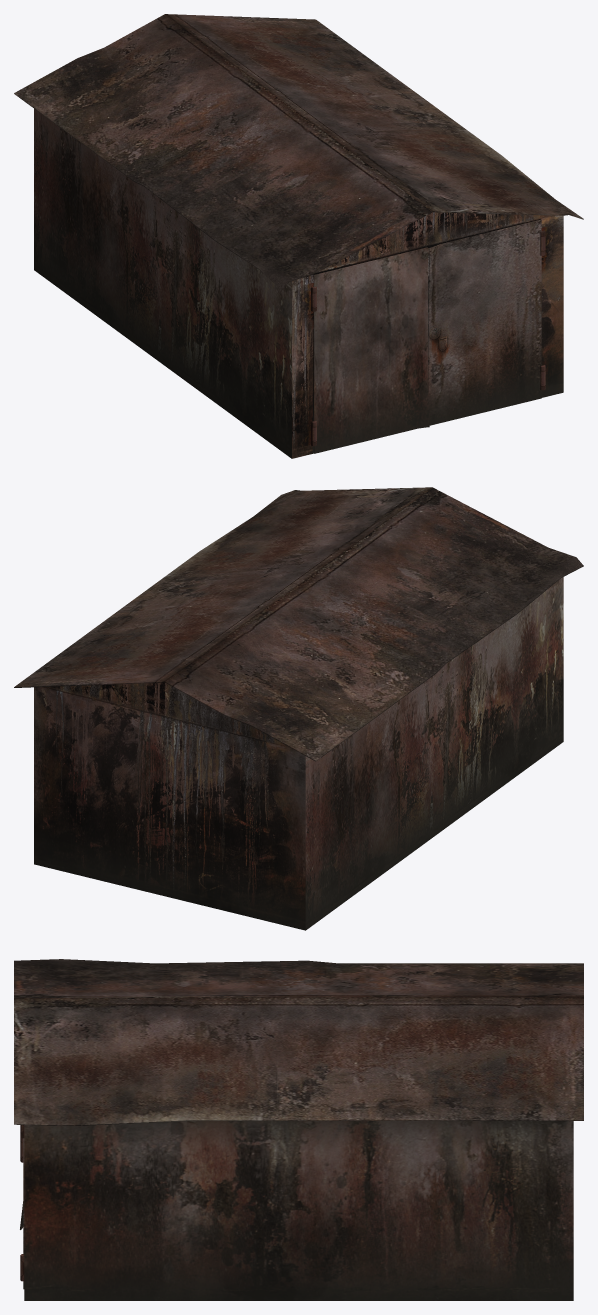
File: garaje_red.FBX
3 views of the same model, one above another, from view 1: azimuth 30°, elevation 25°; view 2: azimuth 150°, elevation 25°; view 3: azimuth 270°, elevation 25° (orthographic). The views are drawn at different scales.
Parts seen in each view (by area): view 1: garaj; view 2: garaj; view 3: garaj.
Boxes of the visible parts, <box> form: garaj: <box>14,14,583,458</box>; garaj: <box>14,487,583,930</box>; garaj: <box>14,959,583,1300</box>.
Bounding box in the file's own units: 2.96 × 2.05 × 4.53.
